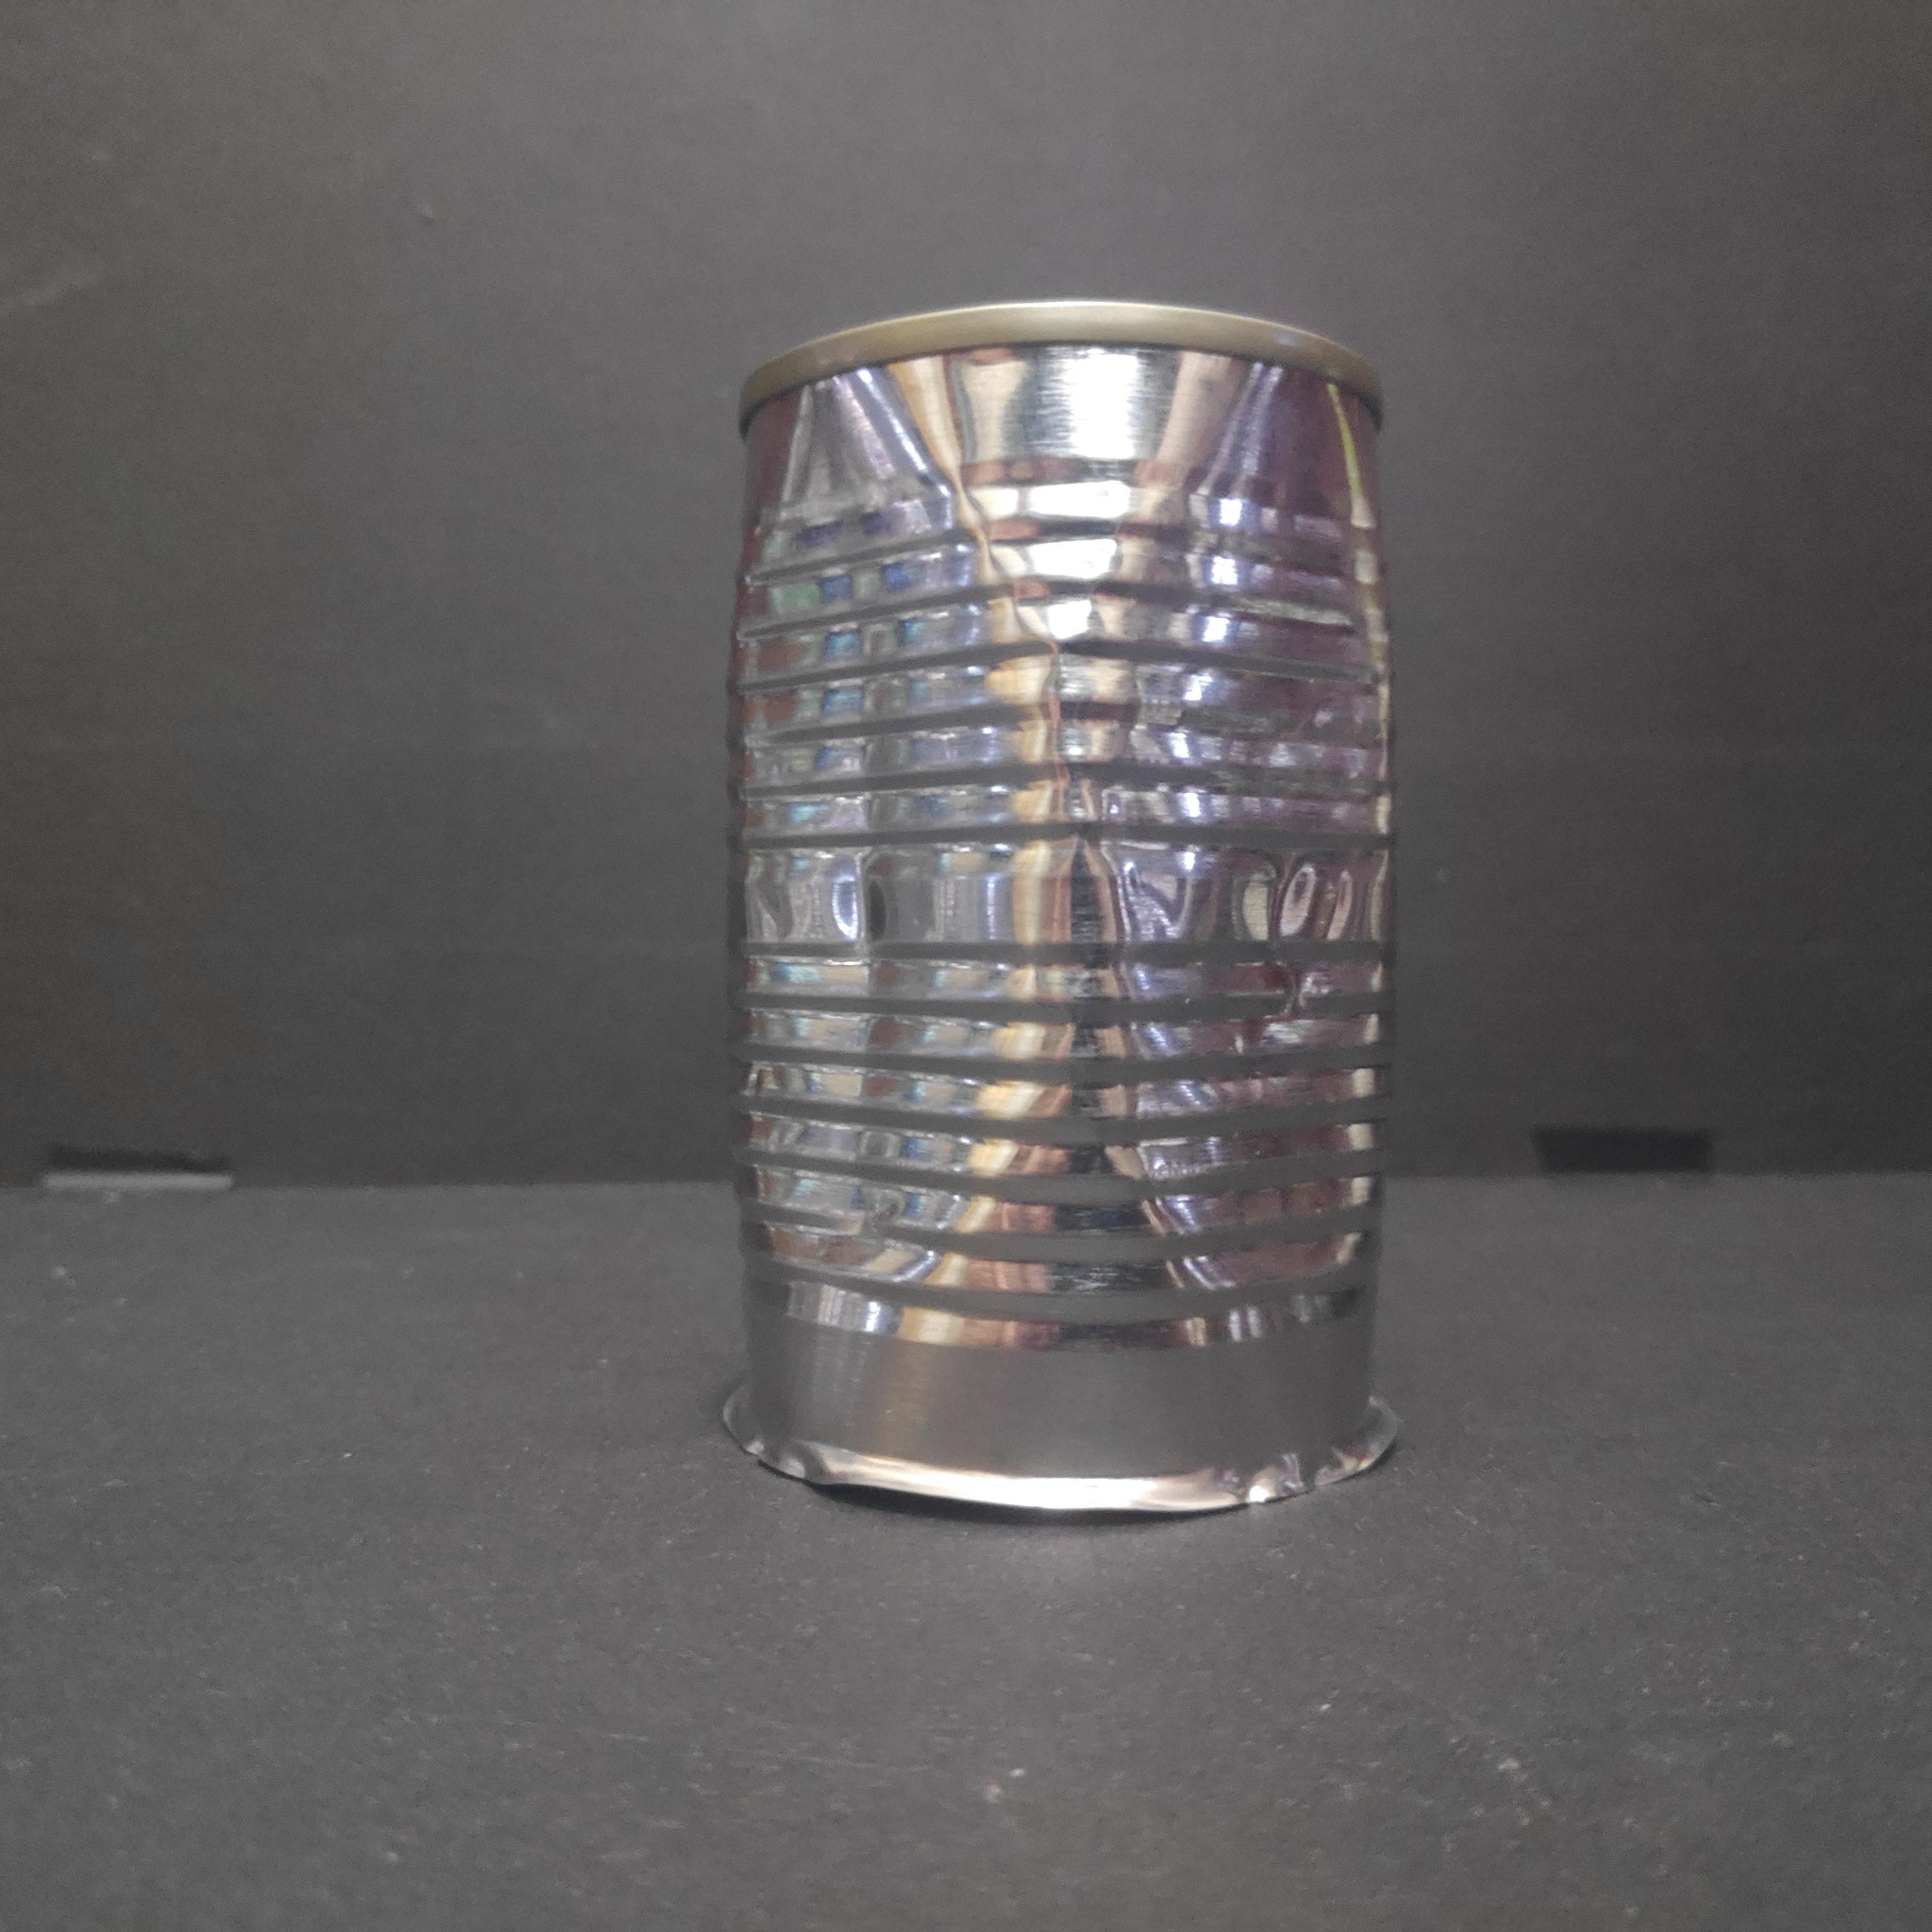Dented: (722, 281, 1399, 1527)
